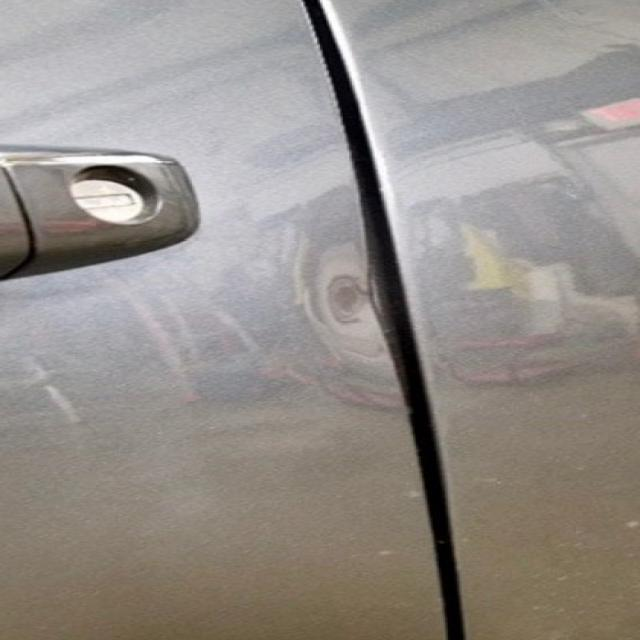dents: (241, 202, 484, 388)
